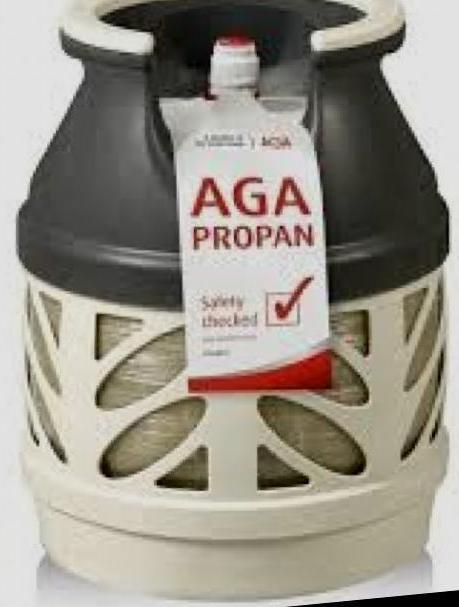cylinder: (1, 0, 459, 607)
